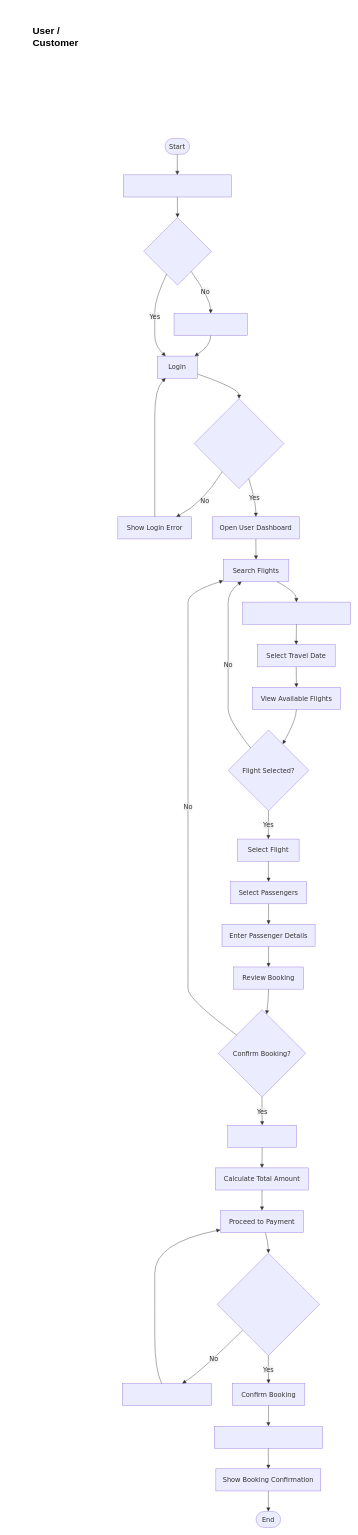
Some shapes in this 358 by 1535 pixel diagram are drawn without their labels. The shapes that lost their labels are listed below. From the top down, each one's centre as x and y in pixels, then its label:
(177,185): Open Airline Booking System
(177,251): Has Account?
(210,324): Register Account
(239,443): Credentials Valid?
(296,613): Enter Origin and Destination
(262,1136): Create Booking
(268,1304): Payment Successful?
(167,1394): Show Payment Failure
(268,1437): Generate Booking Reference
